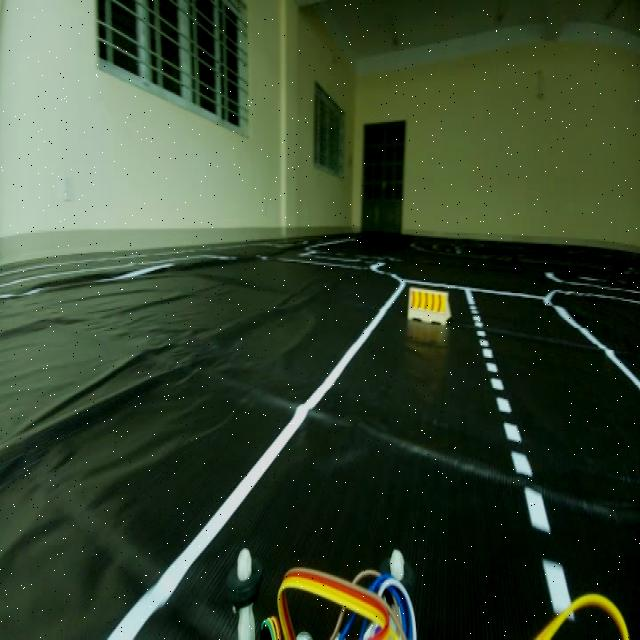roadblock: (405, 276, 453, 332)
